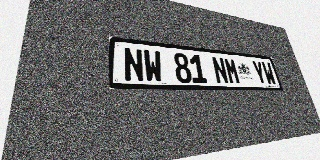1: (188, 54, 207, 84)
8: (173, 52, 192, 83)
M: (223, 58, 241, 84)
N: (123, 47, 144, 82), (211, 56, 229, 84)
W: (143, 49, 163, 83), (261, 62, 277, 85)
Y: (251, 61, 268, 85)
